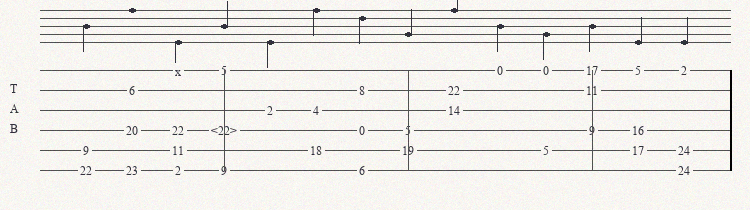0: (359, 124, 369, 137), (497, 64, 507, 77), (543, 64, 553, 77)
11: (172, 144, 188, 157), (586, 84, 602, 97)
14: (448, 104, 464, 117)
16: (632, 124, 648, 137)
17: (586, 64, 602, 77), (632, 144, 648, 157)
18: (310, 144, 326, 157)
19: (402, 144, 418, 157)
2: (175, 164, 185, 177), (267, 104, 277, 117), (681, 64, 691, 77)
20: (126, 124, 142, 137)
22: (80, 164, 96, 177), (172, 124, 188, 137), (448, 84, 464, 97)
23: (126, 164, 142, 177)
24: (678, 164, 694, 177), (678, 144, 694, 157)
4: (313, 104, 323, 117)
5: (221, 64, 231, 77), (405, 124, 415, 137), (543, 144, 553, 157), (635, 64, 645, 77)
6: (129, 84, 139, 97), (359, 164, 369, 177)
8: (359, 84, 369, 97)
9: (83, 144, 93, 157), (221, 164, 231, 177), (589, 124, 599, 137)
harmonic: (211, 124, 241, 137)
x: (175, 65, 185, 75)
